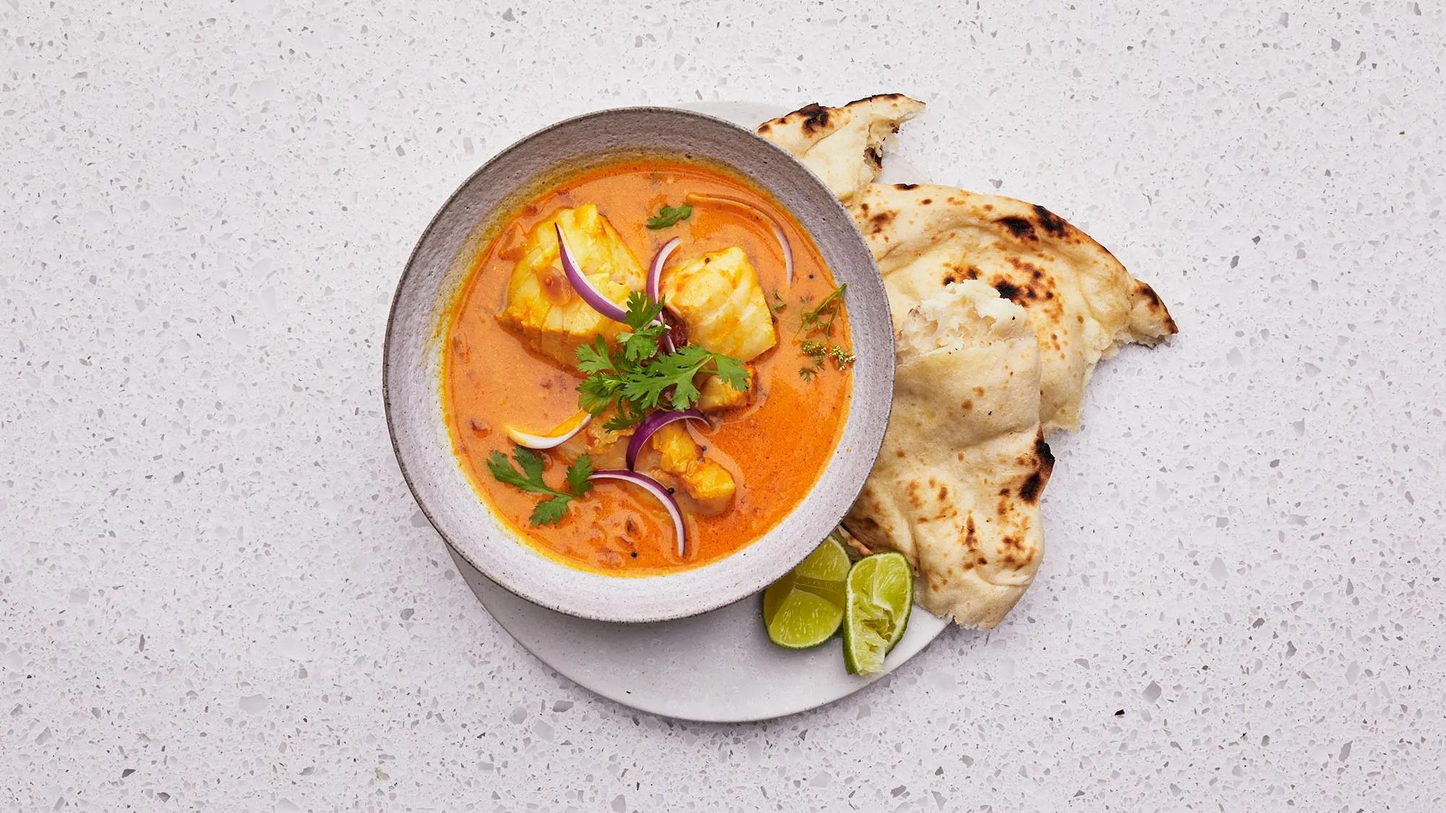FishCurry: (442, 167, 853, 575)
